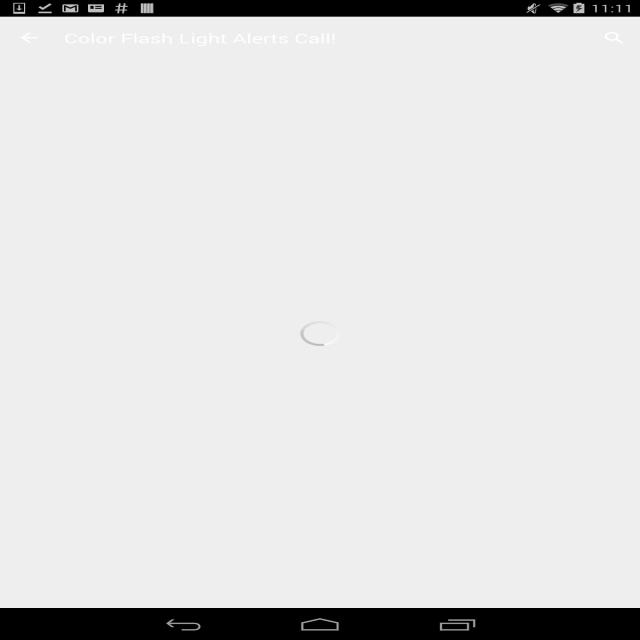button: (604, 28, 632, 48), (17, 28, 43, 48)
heading: (65, 32, 338, 48)
